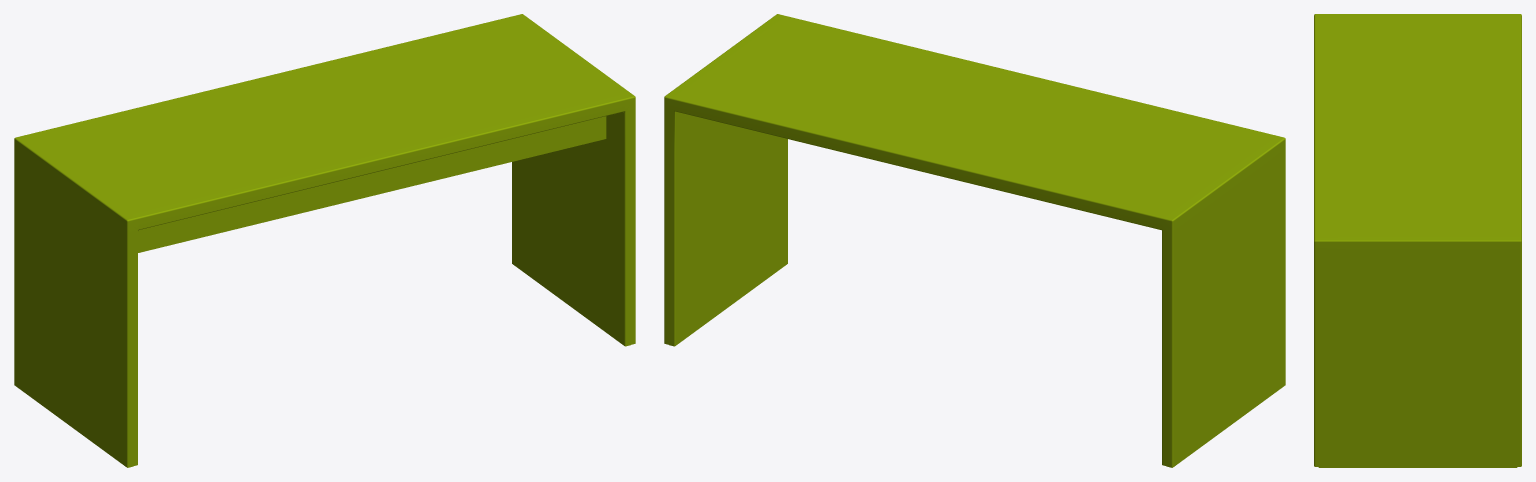
The picture shows the model from 3 angles, left to right: view 1: azimuth 30°, elevation 25°; view 2: azimuth 150°, elevation 25°; view 3: azimuth 270°, elevation 25°; orthographic projection. The views are drawn at different scales.
Parts seen in each view (by area): view 1: pCube185_pCube186_pCube186; view 2: pCube185_pCube186_pCube186; view 3: pCube185_pCube186_pCube186.
Boxes of the visible parts, x1=… form: pCube185_pCube186_pCube186: x1=14, y1=14, x2=635, y2=467; pCube185_pCube186_pCube186: x1=664, y1=14, x2=1285, y2=467; pCube185_pCube186_pCube186: x1=1314, y1=14, x2=1521, y2=467.
Bounding box in the file's own units: 159 × 74.35 × 61.24.
